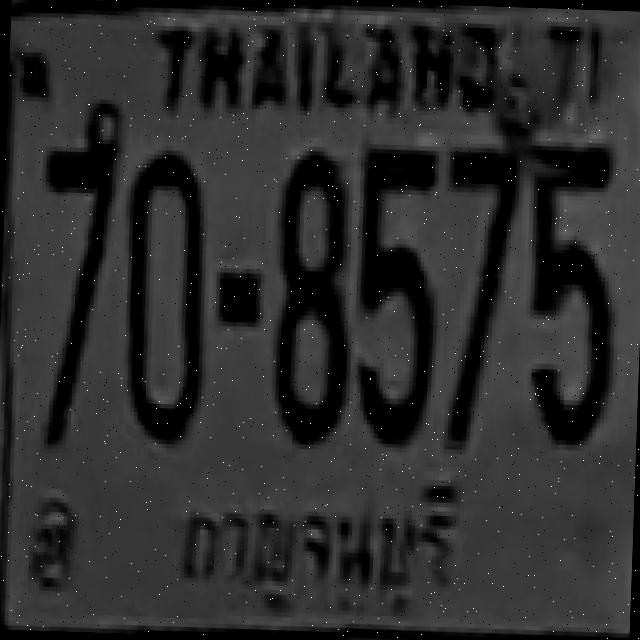0: (120, 146, 208, 438), (523, 225, 612, 441), (274, 145, 346, 294)
5: (526, 138, 614, 314), (356, 142, 436, 312)
7: (442, 142, 518, 309)
8: (270, 145, 350, 441)
Kanchanaburi: (166, 471, 478, 626)
